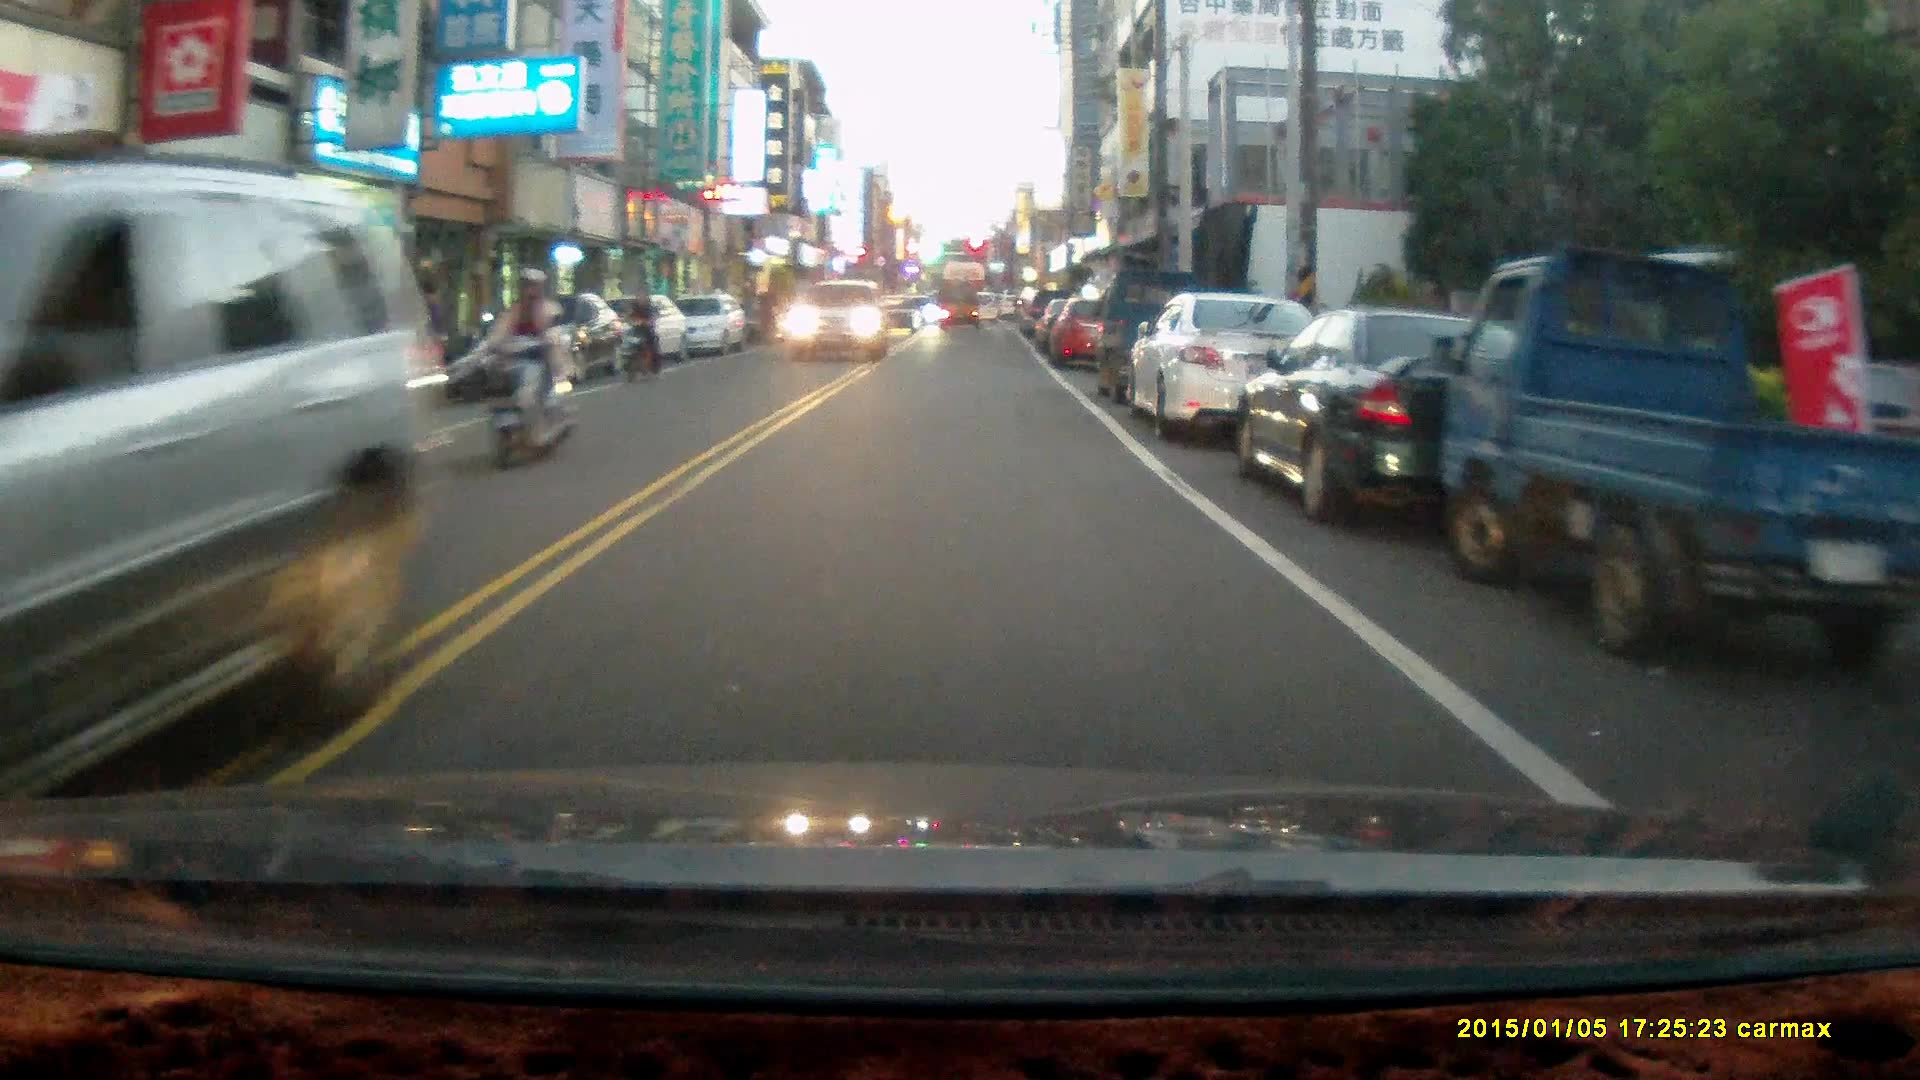pedestrian: (758, 281, 780, 343)
rider: (482, 266, 574, 472), (621, 287, 664, 382)
vehicle: (1441, 247, 1908, 667), (1238, 314, 1637, 540), (1130, 292, 1327, 447), (784, 280, 889, 361), (1050, 299, 1136, 375), (674, 295, 754, 363), (876, 295, 928, 340), (940, 283, 981, 334)
